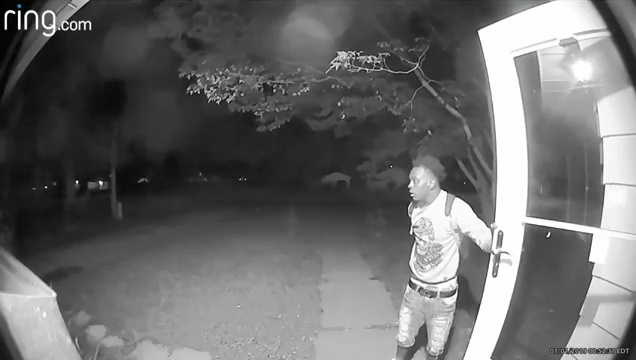face: (408, 170, 423, 201)
